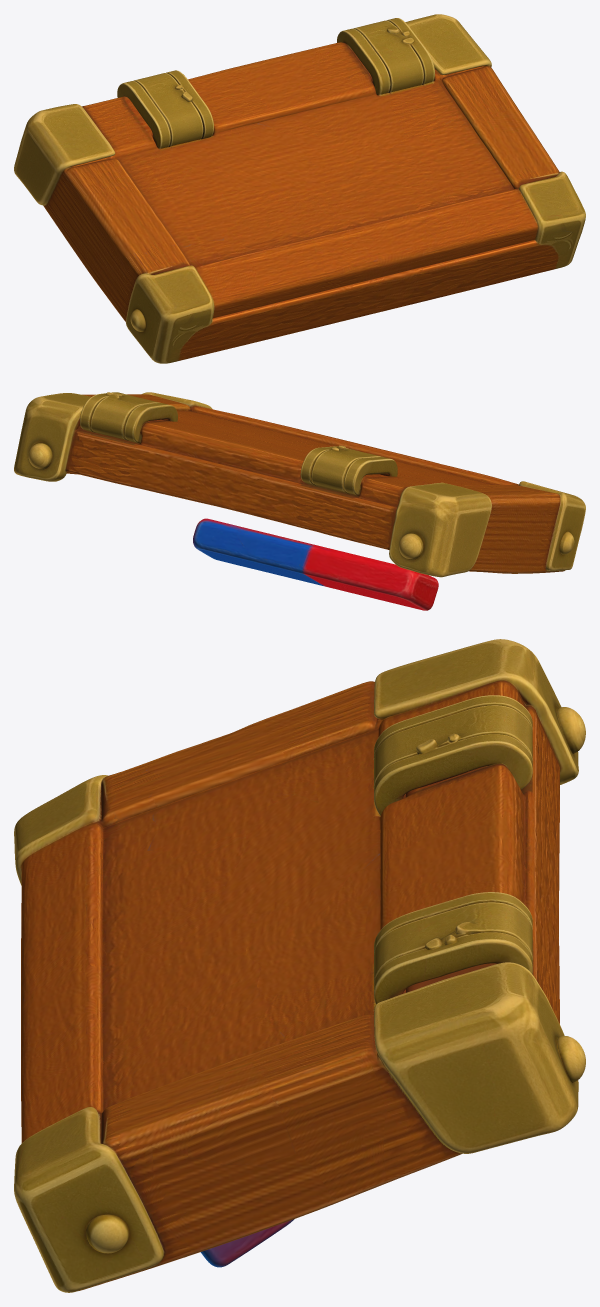
Rendered from box-lid.glb.
The picture shows the model from 3 angles, top to bottom: view 1: azimuth 30°, elevation 25°; view 2: azimuth 150°, elevation 25°; view 3: azimuth 270°, elevation 25°; orthographic projection. The views are drawn at different scales.
Size of the model in its own units: 0.0447 by 0.02 by 0.0277.
Materials: 1 (1 with a texture image).
